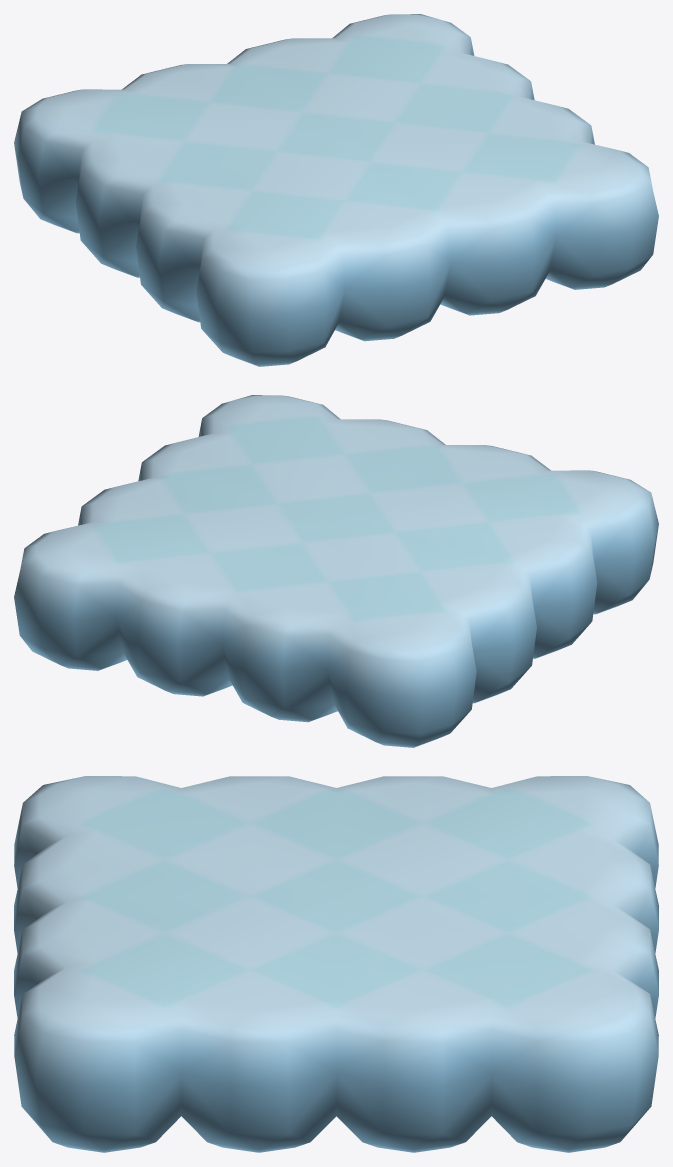
Rendered from G_018_Cloud.FBX.
3 renders of one model, top to bottom at view 1: azimuth 30°, elevation 25°; view 2: azimuth 150°, elevation 25°; view 3: azimuth 270°, elevation 25°, orthographic. The views are drawn at different scales.
Parts seen in each view (by area): view 1: G_018_Cloud; view 2: G_018_Cloud; view 3: G_018_Cloud.
Boxes of the visible parts, x1,y1,x2,y2 form: G_018_Cloud: (14,14,658,366); G_018_Cloud: (14,395,658,747); G_018_Cloud: (14,776,658,1152).
Bounding box in the file's own units: 830 × 200 × 830.
